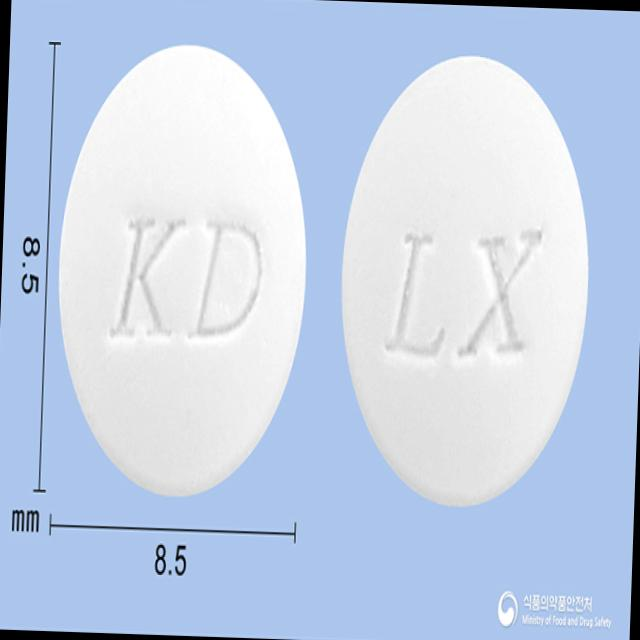Lefoxin: (50, 37, 314, 500), (333, 50, 594, 512)
